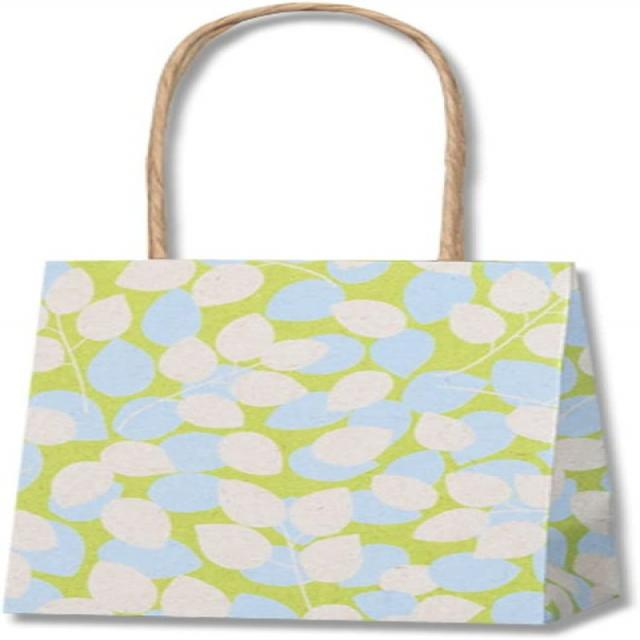paper bag: (5, 3, 631, 630)
